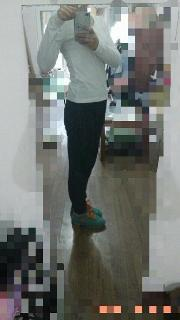long sleeve top: (37, 11, 121, 103)
trousers: (63, 89, 107, 214)
